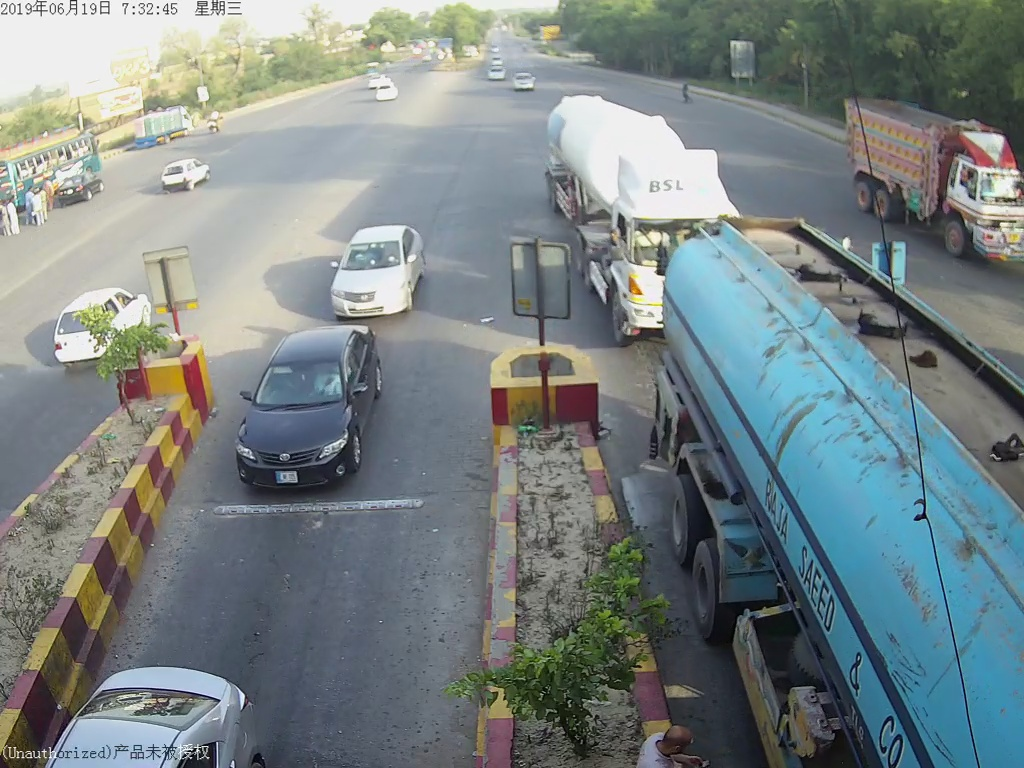Cat-1: (231, 324, 407, 493), (315, 215, 429, 320)
Cat-5: (565, 91, 675, 341)
